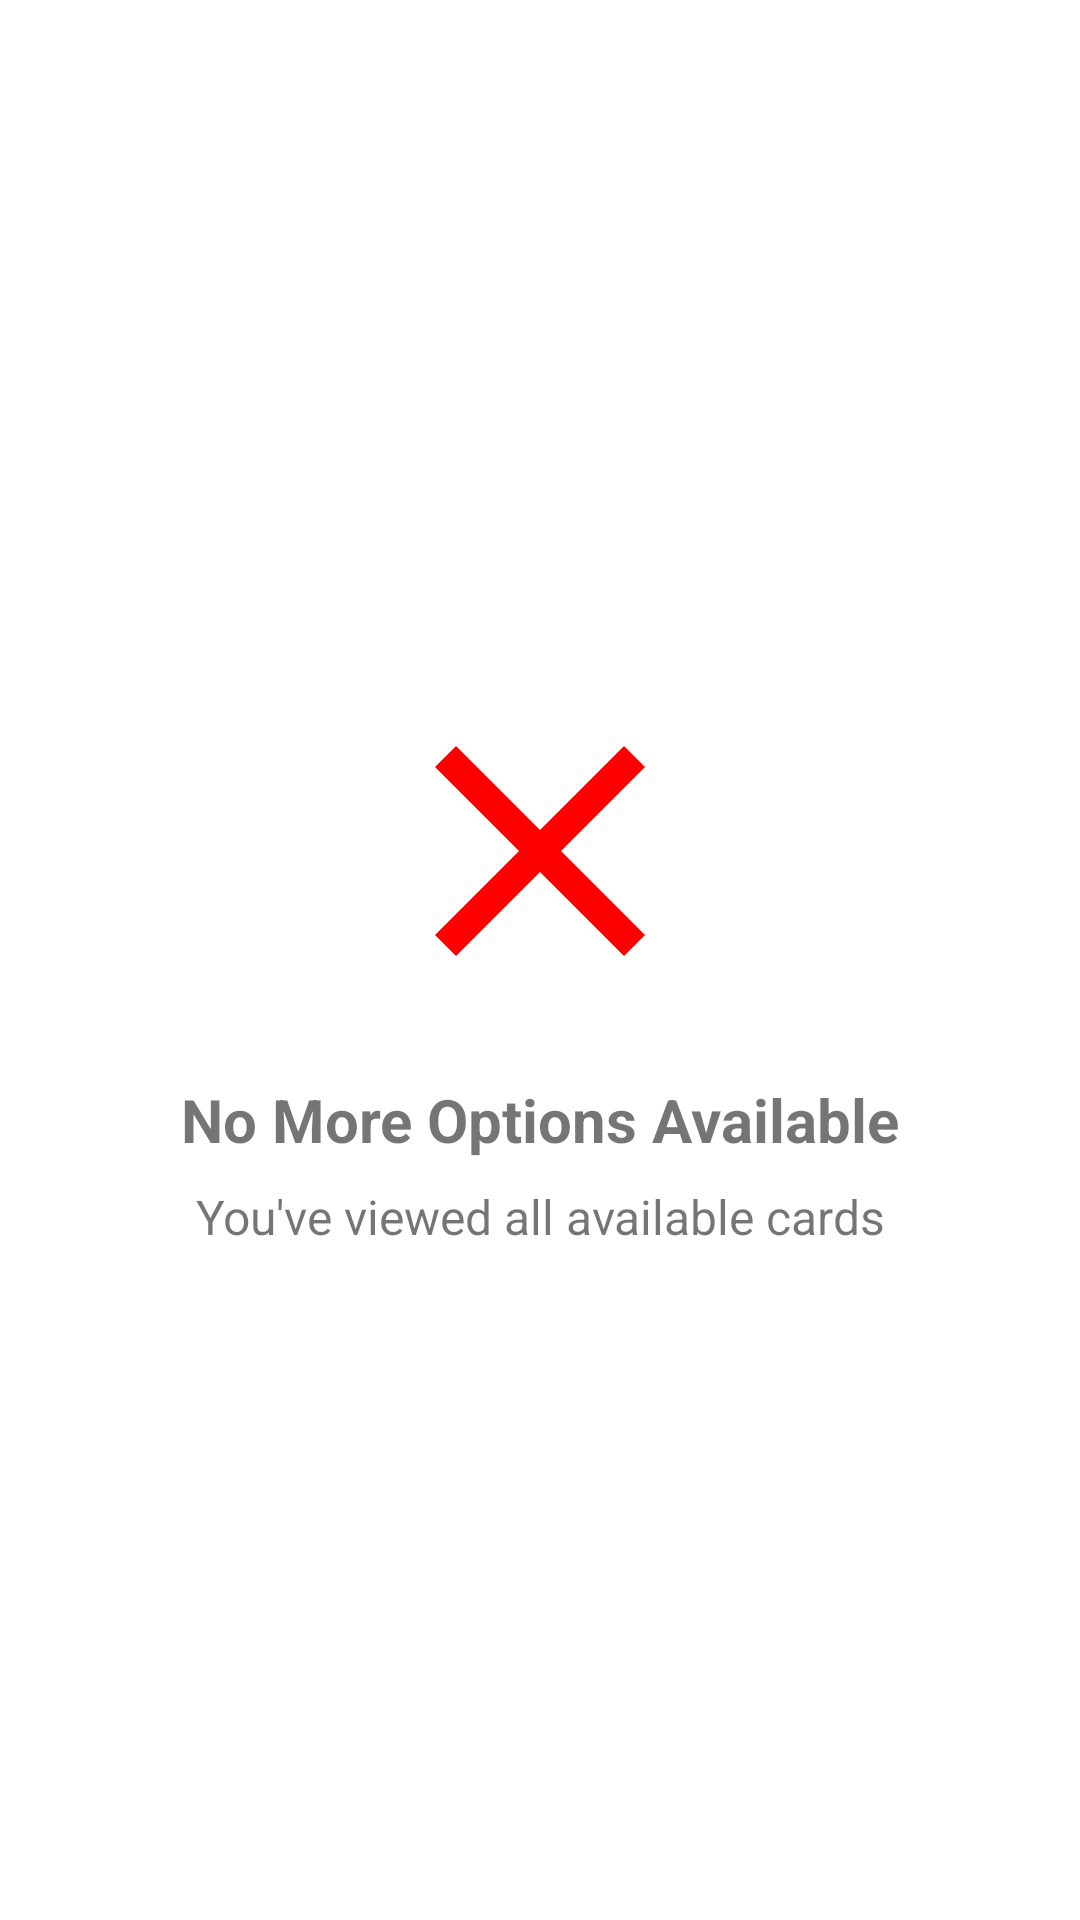

Where icons sit on this 1080×1920 app screen, as [x1=x1, y1=y1, x2=x2, y2=y2]:
cross: [x1=435, y1=746, x2=645, y2=956]
